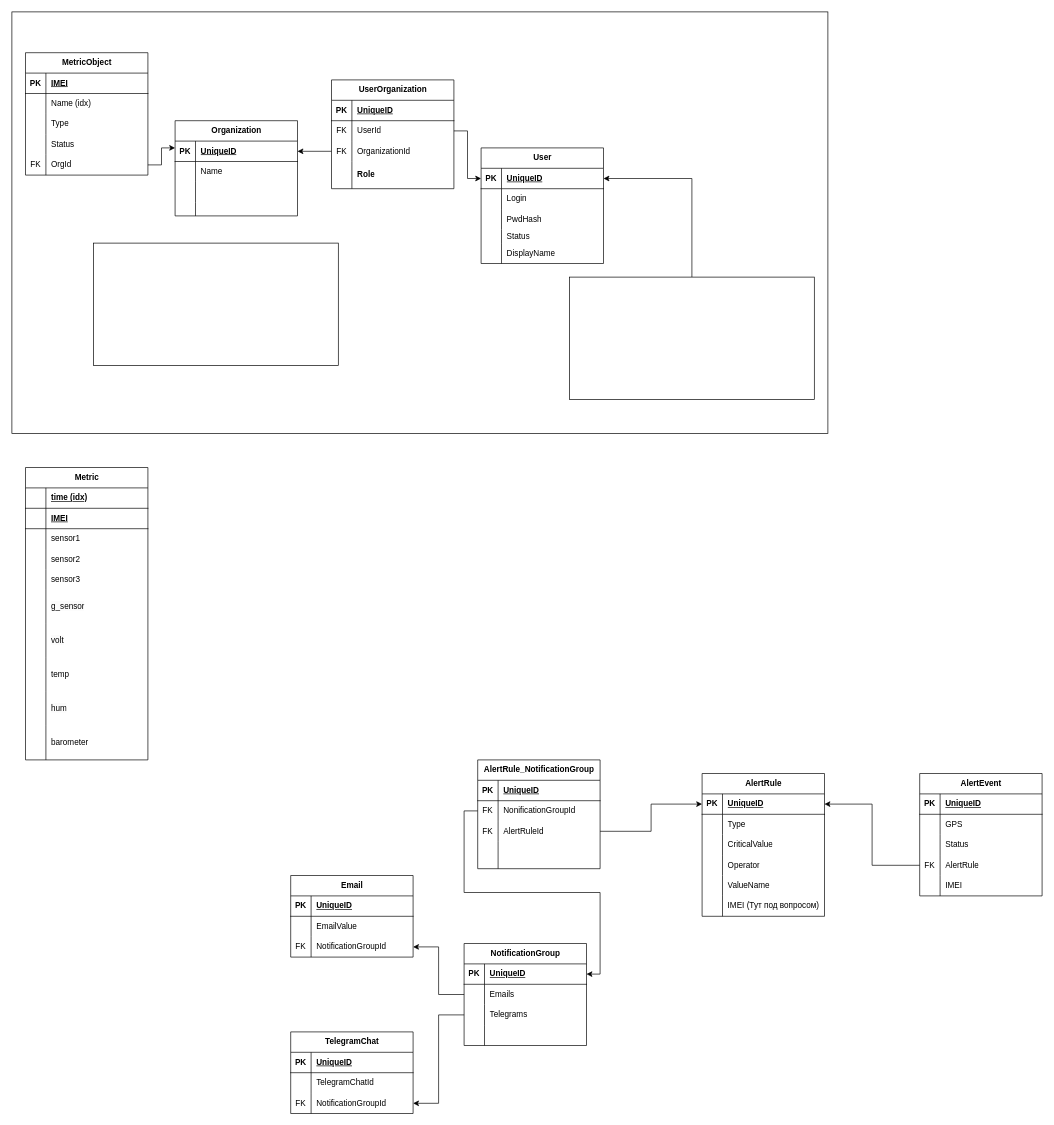
This 1054x1125 diagram has some shape labels left out. The shapes that lost their labels are listed below. From the top down, each one's centre as x and y in pixels, then its label:
(215,304): JWT Блок
(691,338): Блок пользовательских настроек
